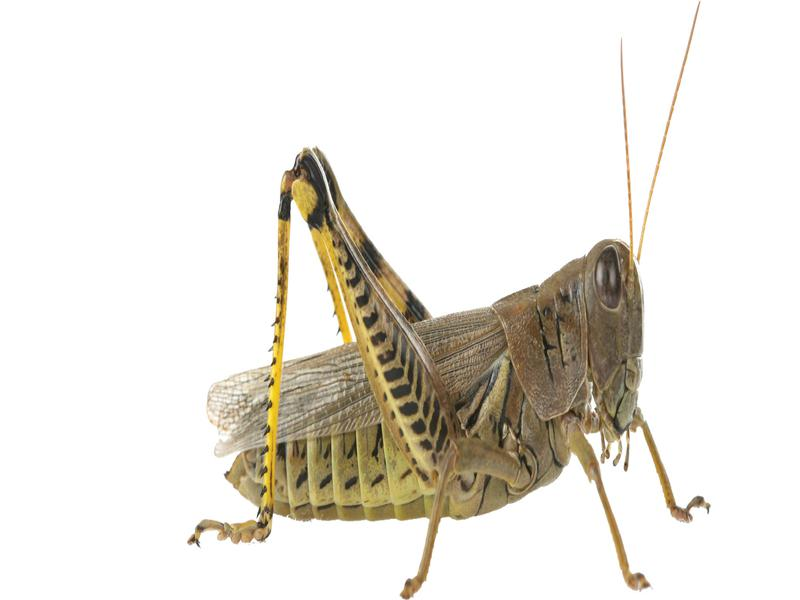Grasshopper: (174, 138, 719, 584)
